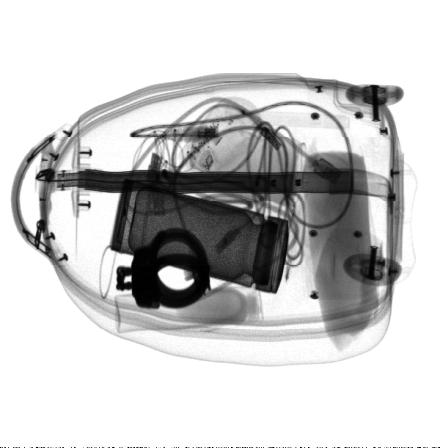HandCuffs: (114, 228, 211, 311)
